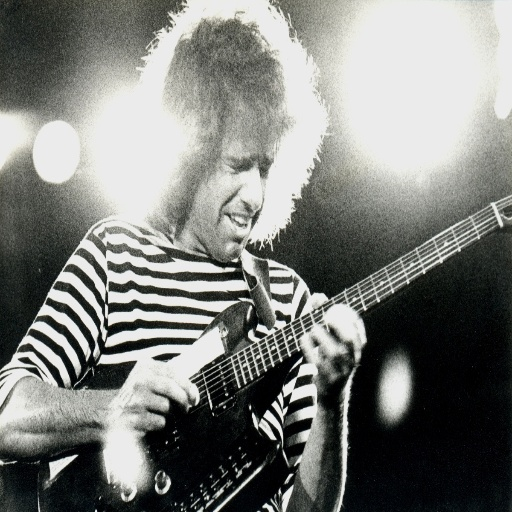hand: (97, 355, 190, 465), (295, 291, 369, 405)
